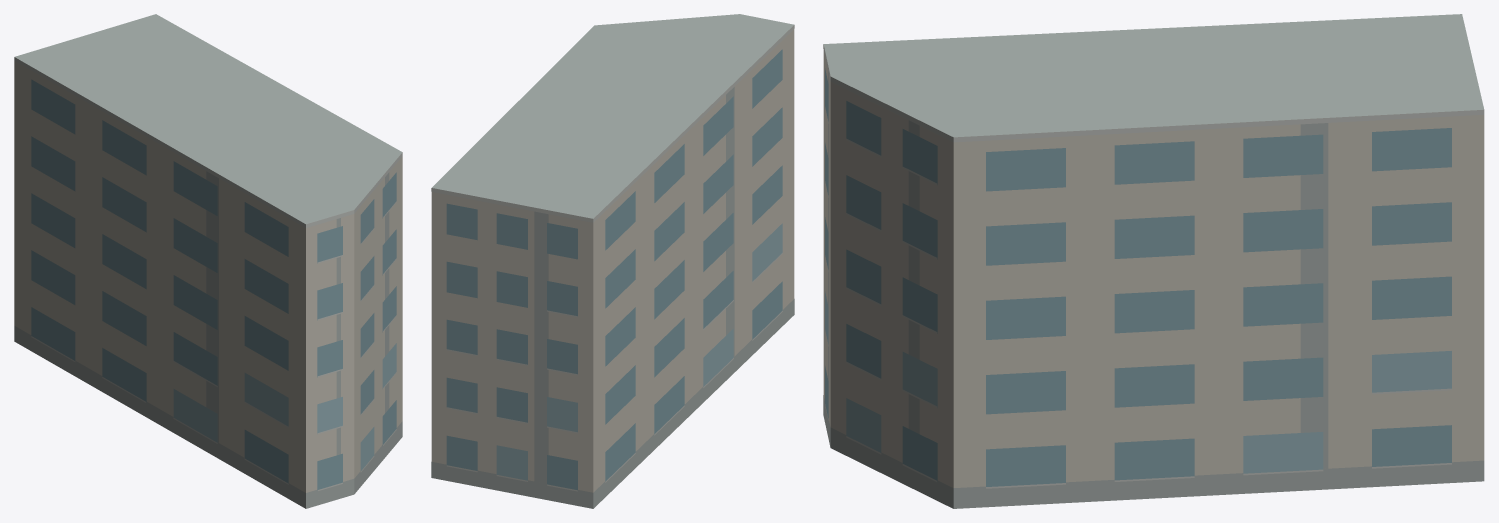
File: survey-upis-32851750.glb
The picture shows the model from 3 angles, left to right: view 1: azimuth 30°, elevation 25°; view 2: azimuth 150°, elevation 25°; view 3: azimuth 270°, elevation 25°; orthographic projection. The views are drawn at different scales.
Parts seen in each view (by area): view 1: survey-upis-32851750.tmp; view 2: survey-upis-32851750.tmp; view 3: survey-upis-32851750.tmp.
Boxes of the visible parts, <box> form: survey-upis-32851750.tmp: <box>14,14,402,508</box>; survey-upis-32851750.tmp: <box>431,14,794,508</box>; survey-upis-32851750.tmp: <box>823,14,1484,508</box>.
Bounding box in the file's own units: 12.67 × 17.78 × 28.67.
